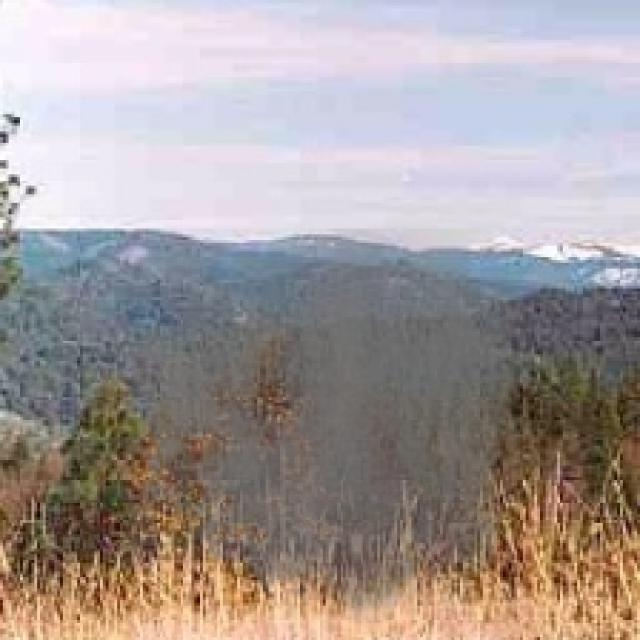smoke: (117, 229, 529, 637)
